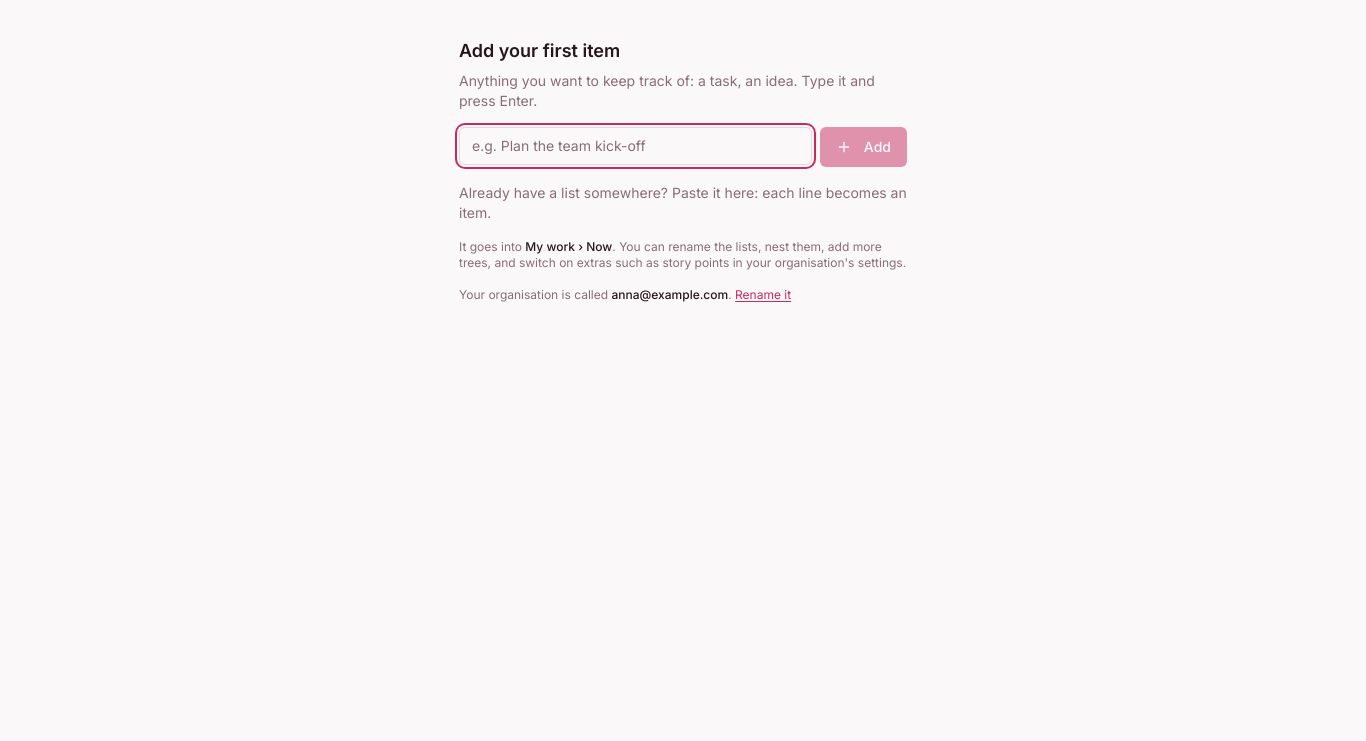
the getting-started steps › appear once the first item is added, and stay closed once closed
Later steps or results of the test are not shown.
Expected: the heading "Getting started" is not shown
Type "First" into the text box named "First item" at (635, 146), box [459,127,812,165]
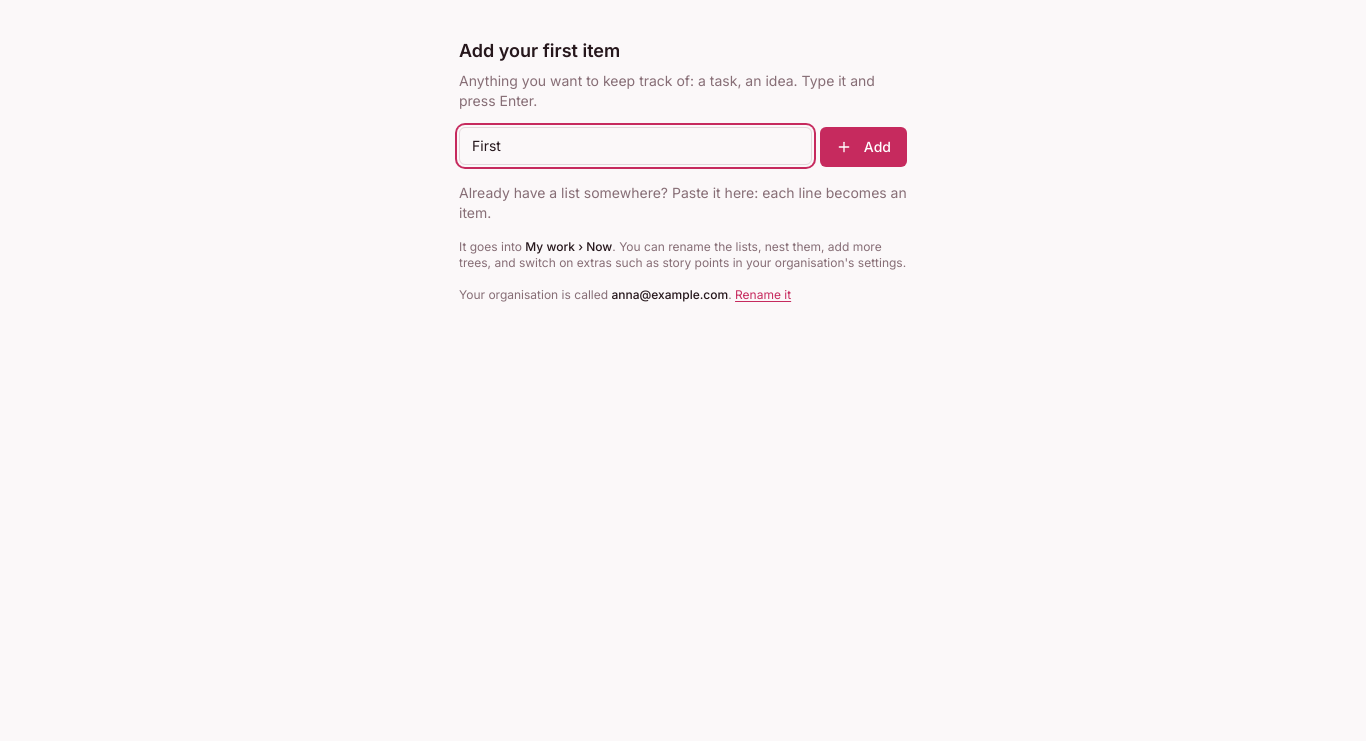
Submit the form named "First item", box [459,127,907,167]
(page scrolled)
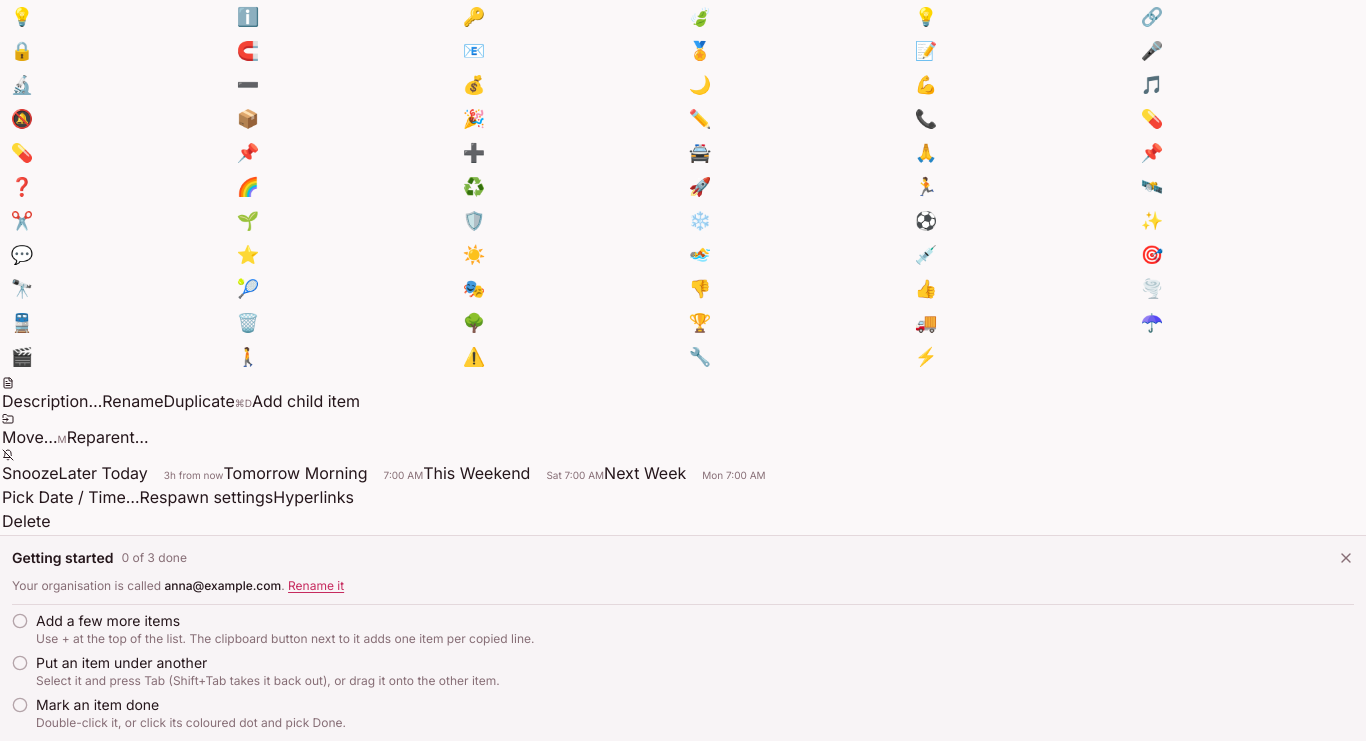
Expected: the heading "Getting started" is shown, [12,548,113,568]
Expected: the text "0 of 3 done" is shown, [121,550,187,566]
Expected: the text "press Tab" is shown, [36,673,500,688]
Click the button named "Close getting started" at (1346, 558), box [1334,546,1358,570]
(page scrolled)
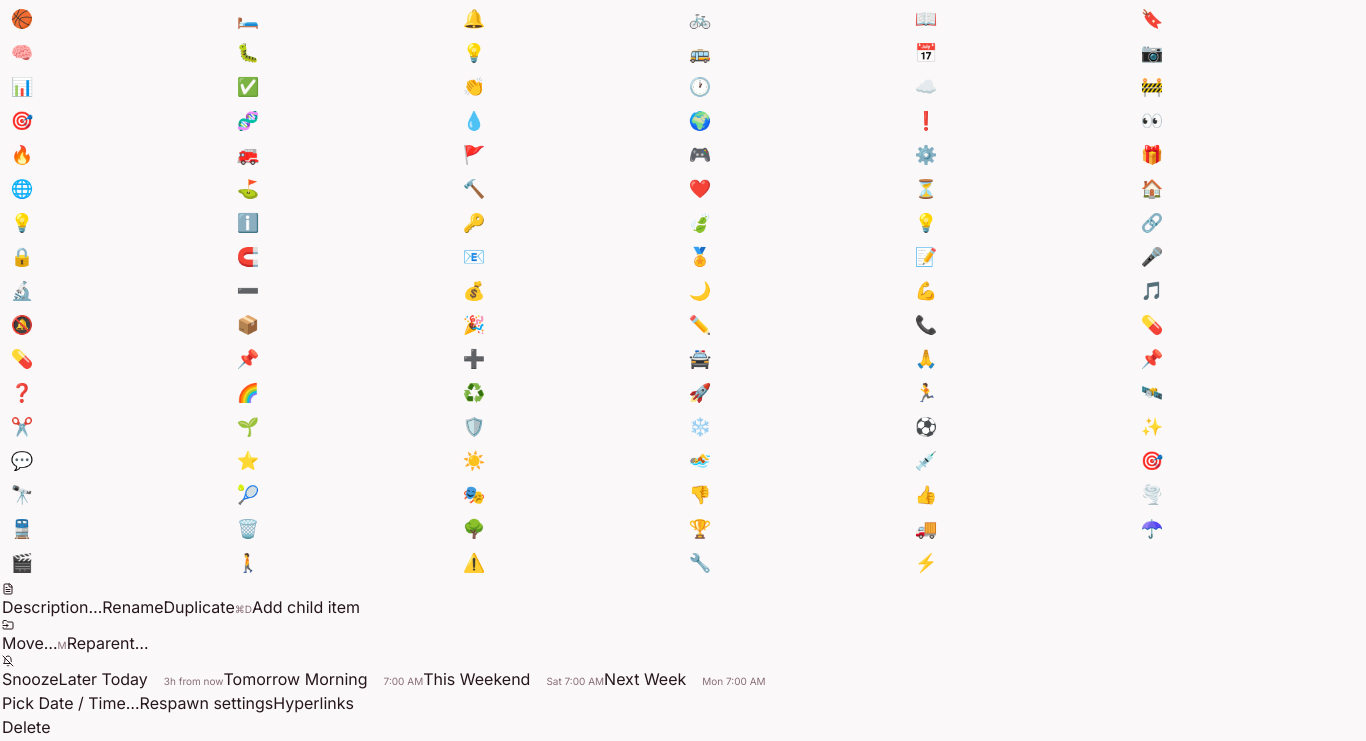
Expected: the heading "Getting started" is gone
